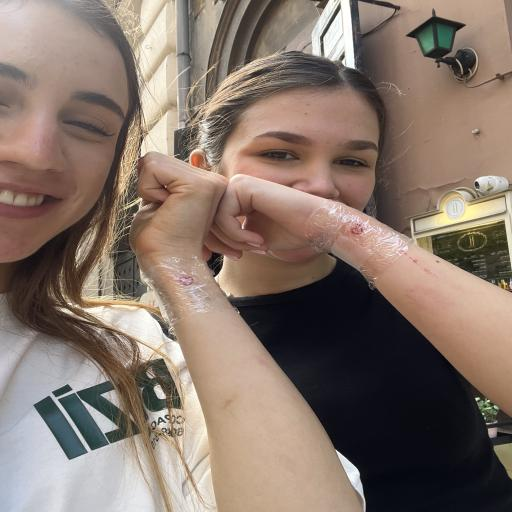masa: (2, 0, 123, 290)
